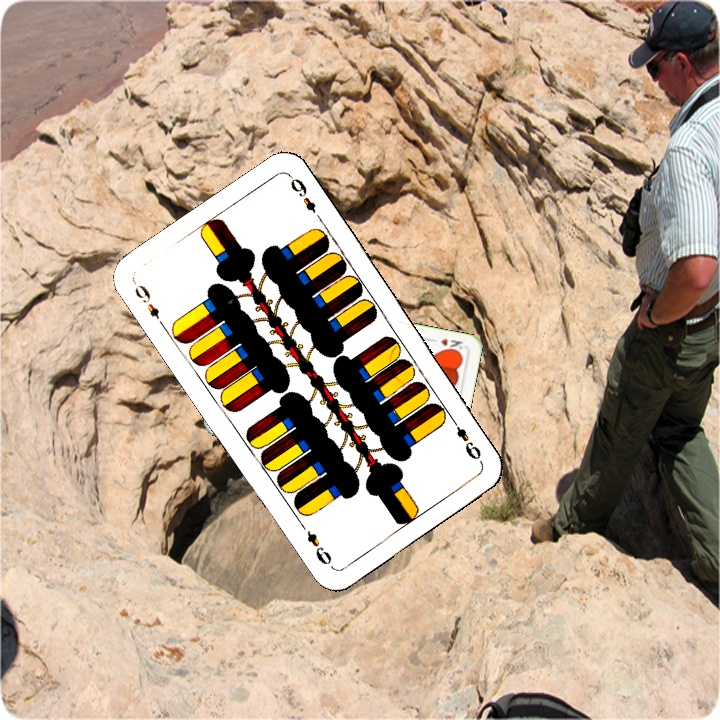E9: (447, 413, 485, 466), (130, 278, 168, 331)
HK: (426, 334, 465, 351)
